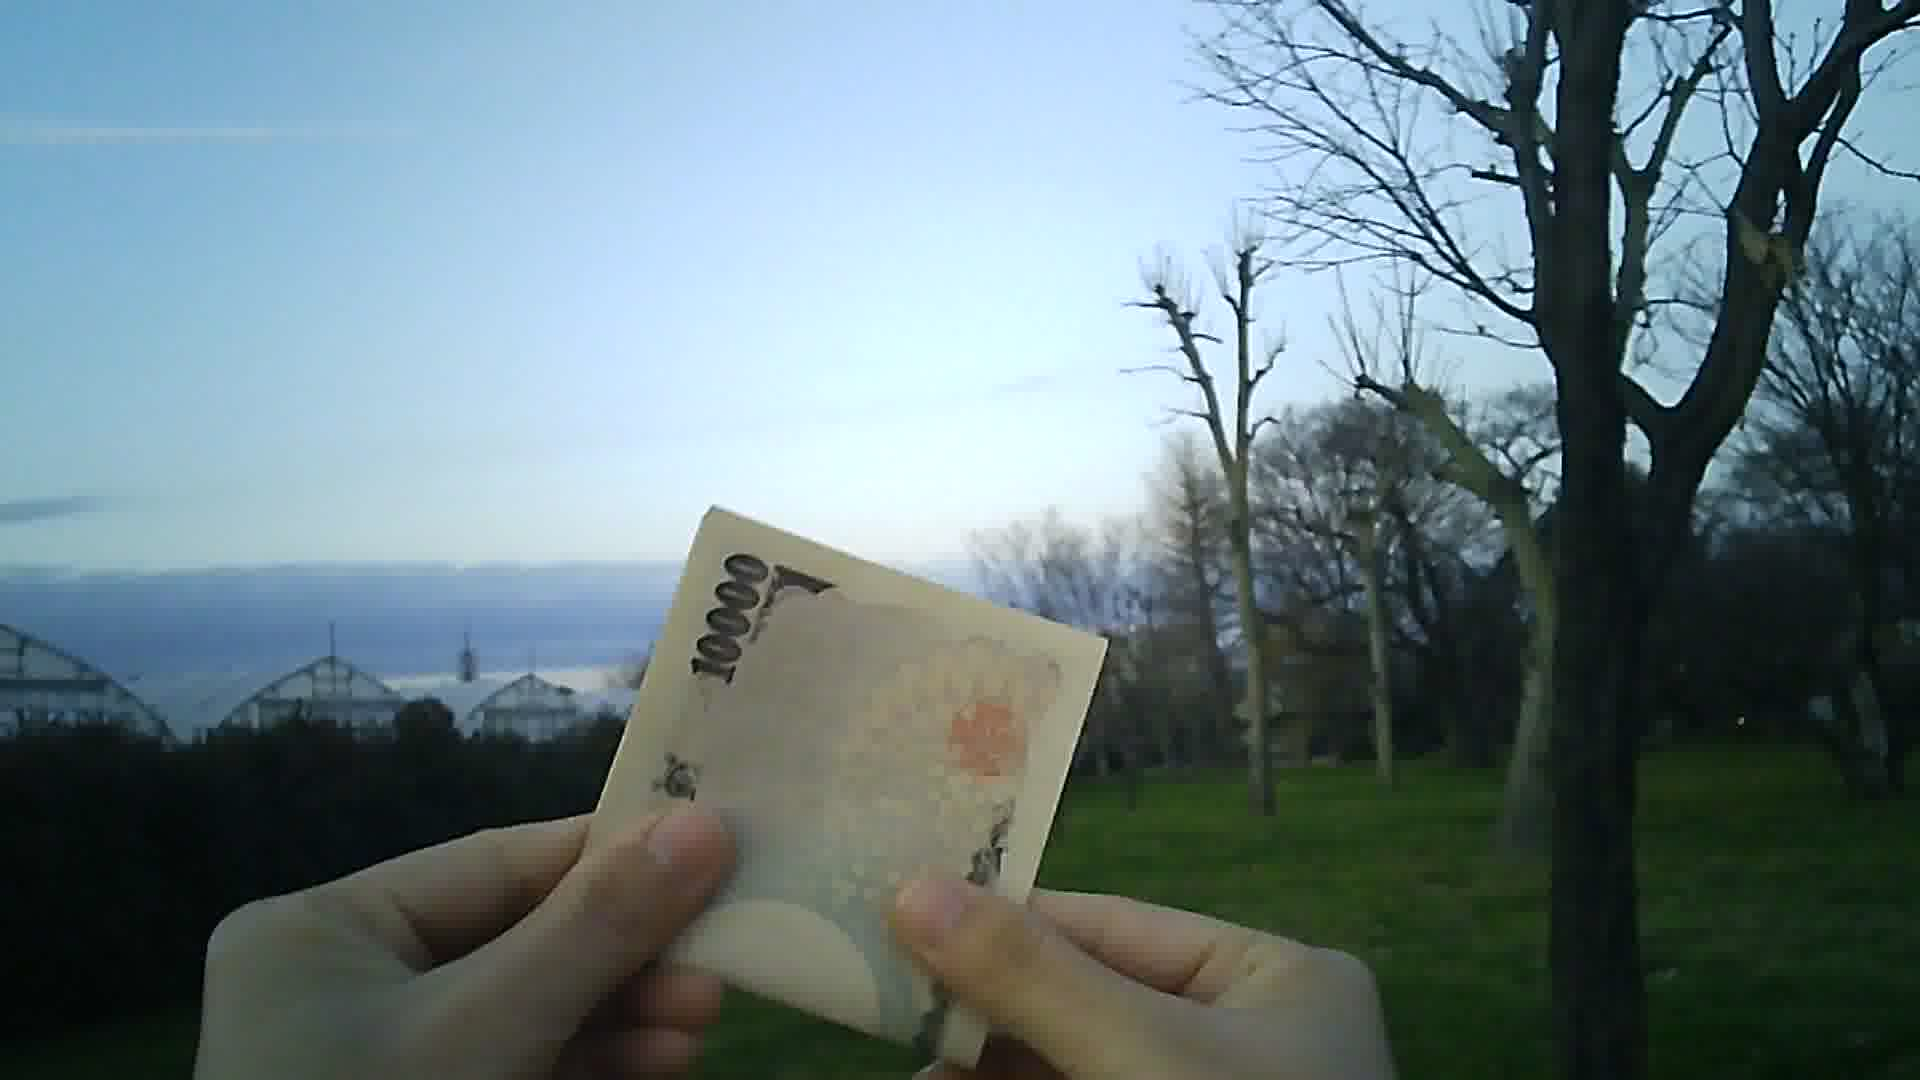10,000 Yen: (543, 483, 1113, 1079)
